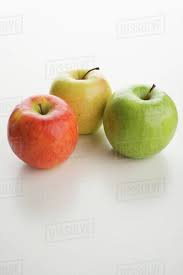apple: (103, 85, 175, 168), (7, 94, 81, 171), (49, 68, 111, 133)
